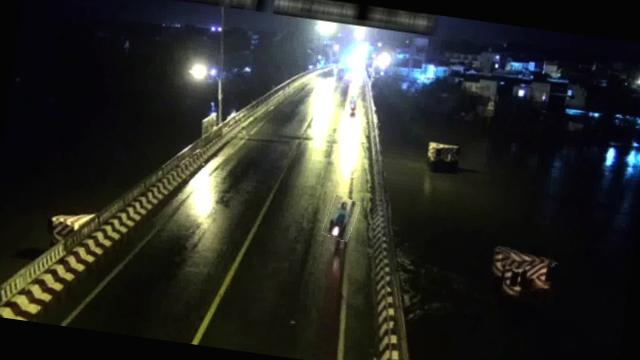Bike: (322, 194, 360, 241), (346, 94, 361, 120)
